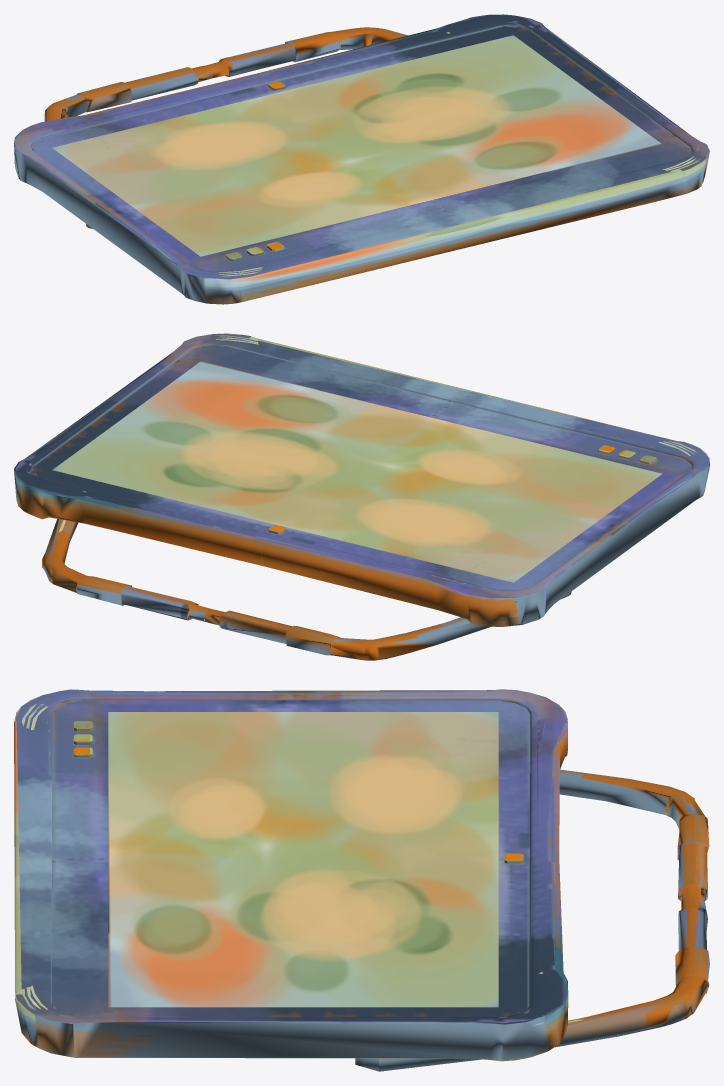
The model's file is LO_tablet.glb.
3 views of the same model, one above another, from view 1: azimuth 30°, elevation 25°; view 2: azimuth 150°, elevation 25°; view 3: azimuth 270°, elevation 25° (orthographic). The views are drawn at different scales.
Visible parts, largest first — view 1: frame; view 2: frame; view 3: frame.
Boxes of the visible parts, x1,y1,x2,y2 form: frame: [14, 14, 709, 304]; frame: [14, 333, 709, 660]; frame: [14, 689, 709, 1071].
Bounding box in the file's own units: 0.37 × 0.0333 × 0.3249.
1 material, 1 textured.
